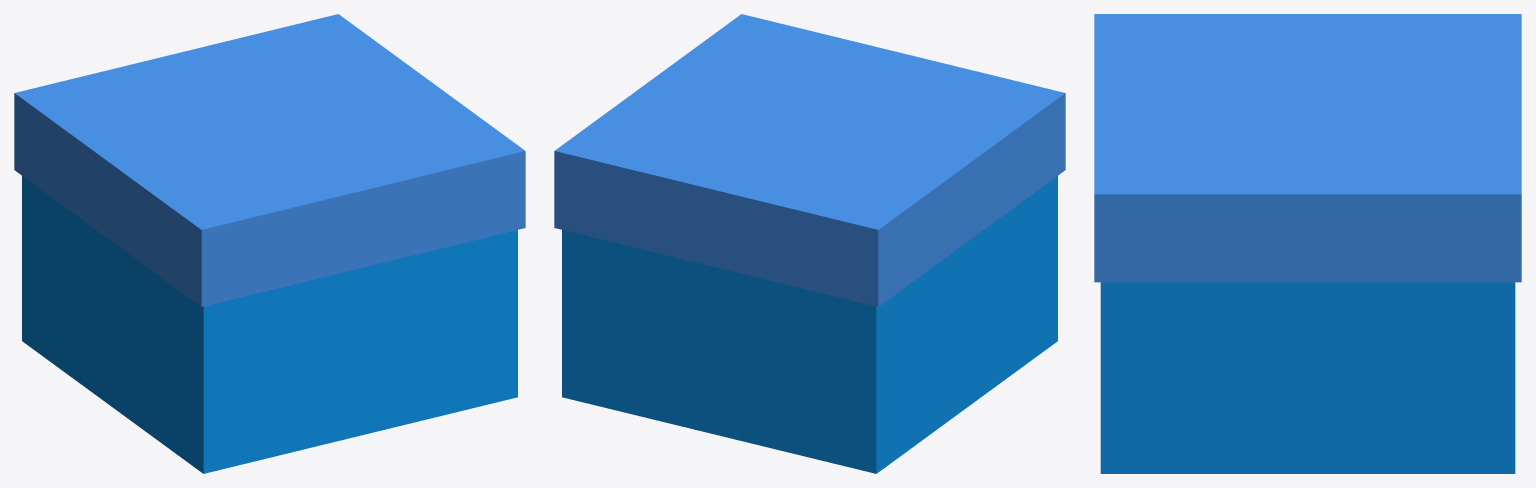
Rendered from blue-box.fbx.
3 renders of one model, left to right at view 1: azimuth 30°, elevation 25°; view 2: azimuth 150°, elevation 25°; view 3: azimuth 270°, elevation 25°, orthographic. The views are drawn at different scales.
Parts seen in each view (by area): view 1: top.001, top; view 2: top.001, top; view 3: top.001, top.
Part boxes in pixels (box(x1,y1,x2,y2)): top.001: box(14, 14, 525, 306); top: box(22, 176, 517, 473); top.001: box(554, 14, 1065, 306); top: box(562, 176, 1057, 473); top.001: box(1094, 14, 1521, 282); top: box(1100, 282, 1515, 473).
Bounding box in the file's own units: 238 × 173 × 238.
